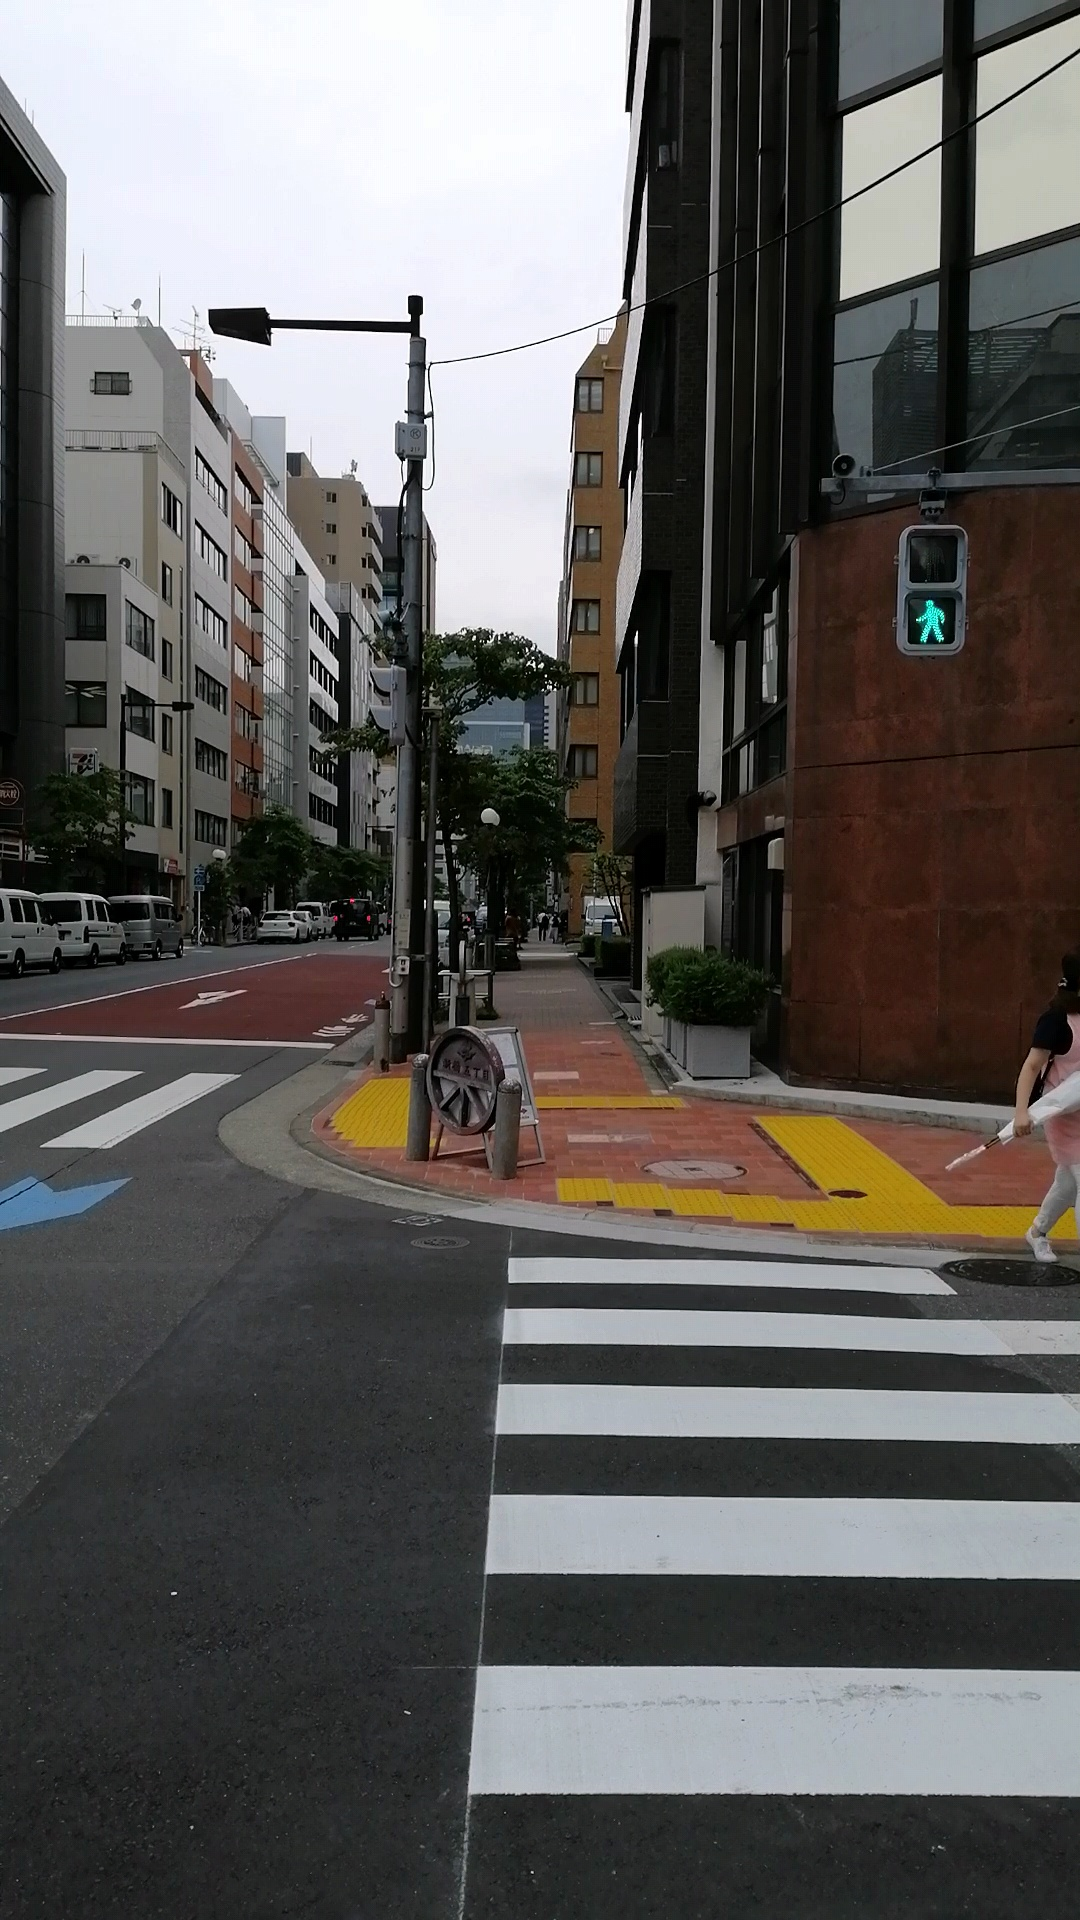green: (893, 520, 967, 657)
